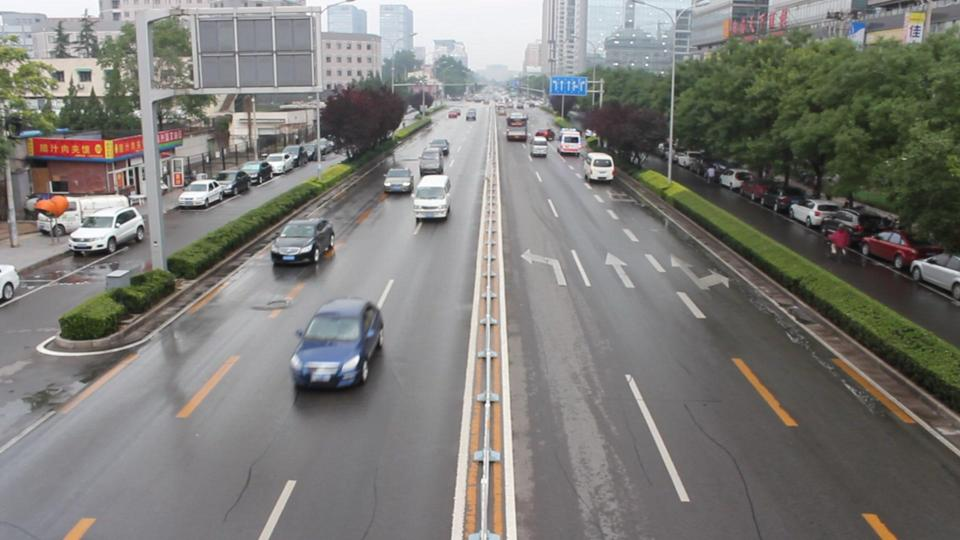Car: (288, 295, 386, 392), (271, 217, 338, 265), (382, 164, 413, 194), (428, 136, 448, 155)
Minivan: (408, 174, 453, 220), (582, 150, 612, 183), (416, 147, 445, 176), (556, 127, 580, 154), (527, 136, 546, 155)
